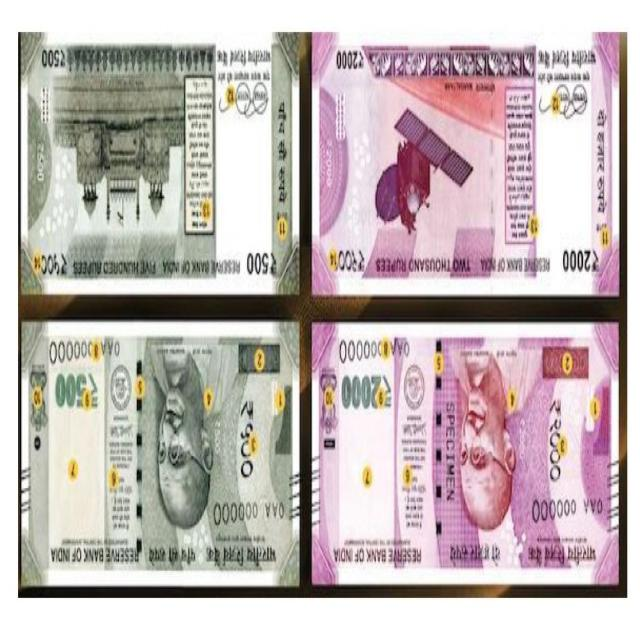500IndianRupees: (19, 33, 300, 291)
